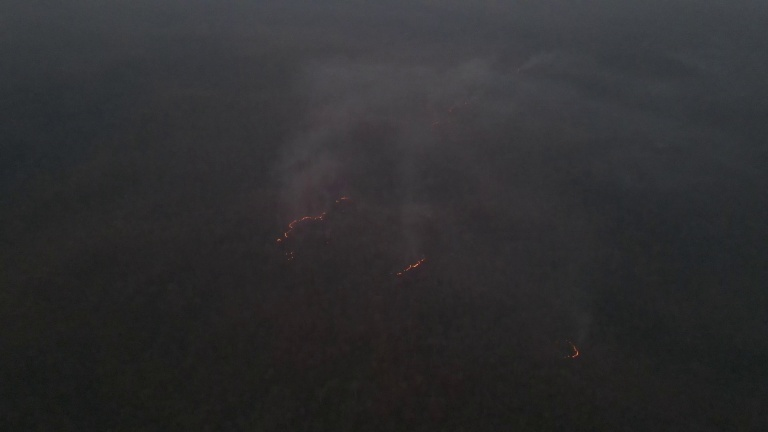fire: (273, 213, 334, 264), (393, 253, 426, 279), (566, 341, 585, 359), (330, 189, 352, 202)
smoke: (277, 57, 507, 250)
